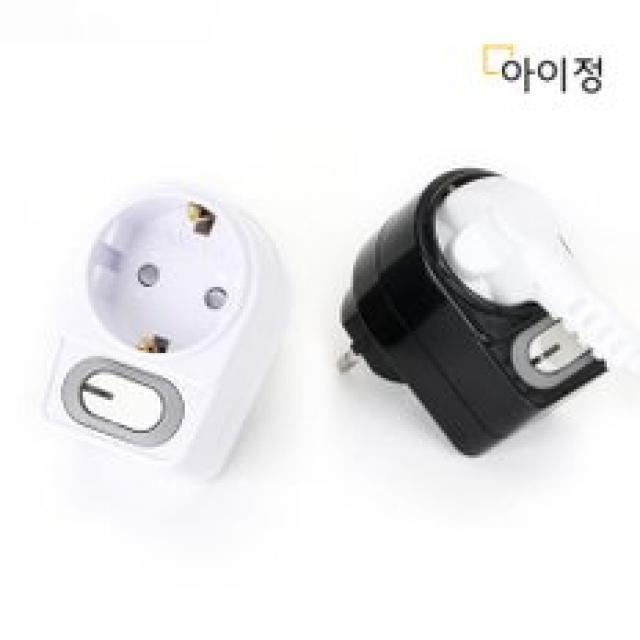typeb: (32, 132, 319, 362)
